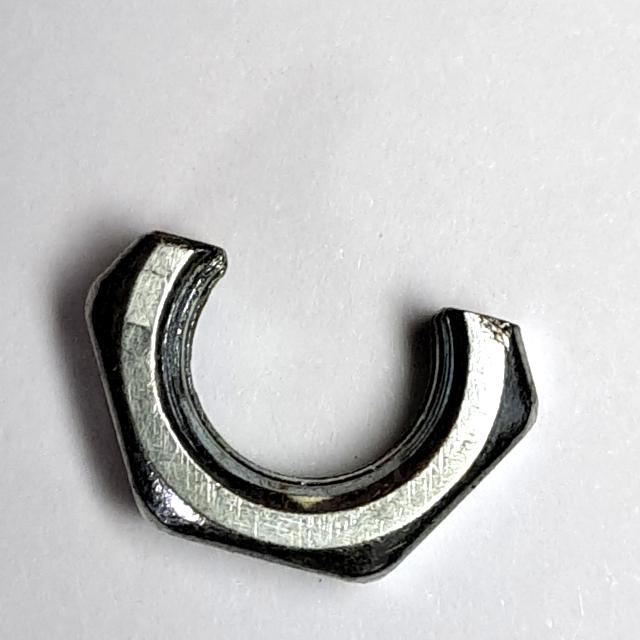Fracture: (74, 220, 558, 601)
